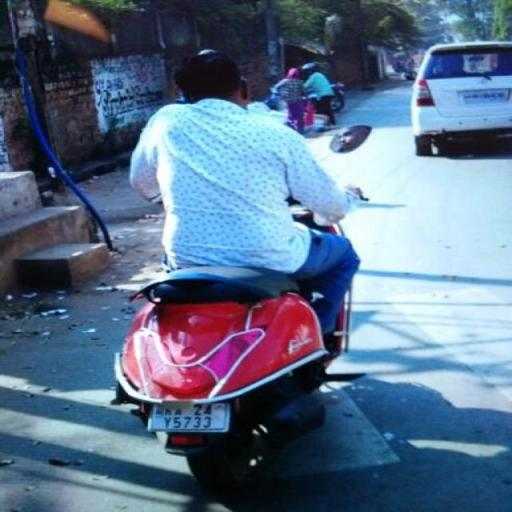numberplate: (152, 400, 234, 432)
using mobile: (166, 96, 196, 108)
